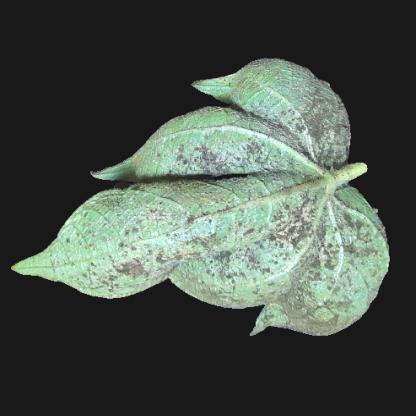curl_stage2: (250, 64, 308, 112), (92, 193, 150, 227), (196, 110, 237, 142), (39, 251, 80, 281), (137, 153, 174, 181)
sooty: (237, 198, 362, 324), (178, 143, 300, 183), (109, 237, 217, 281), (304, 109, 350, 164)
